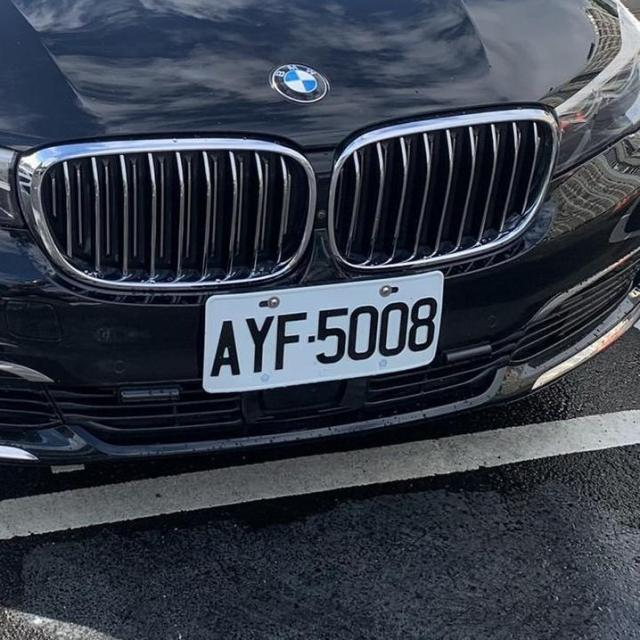W: (197, 266, 455, 394)
